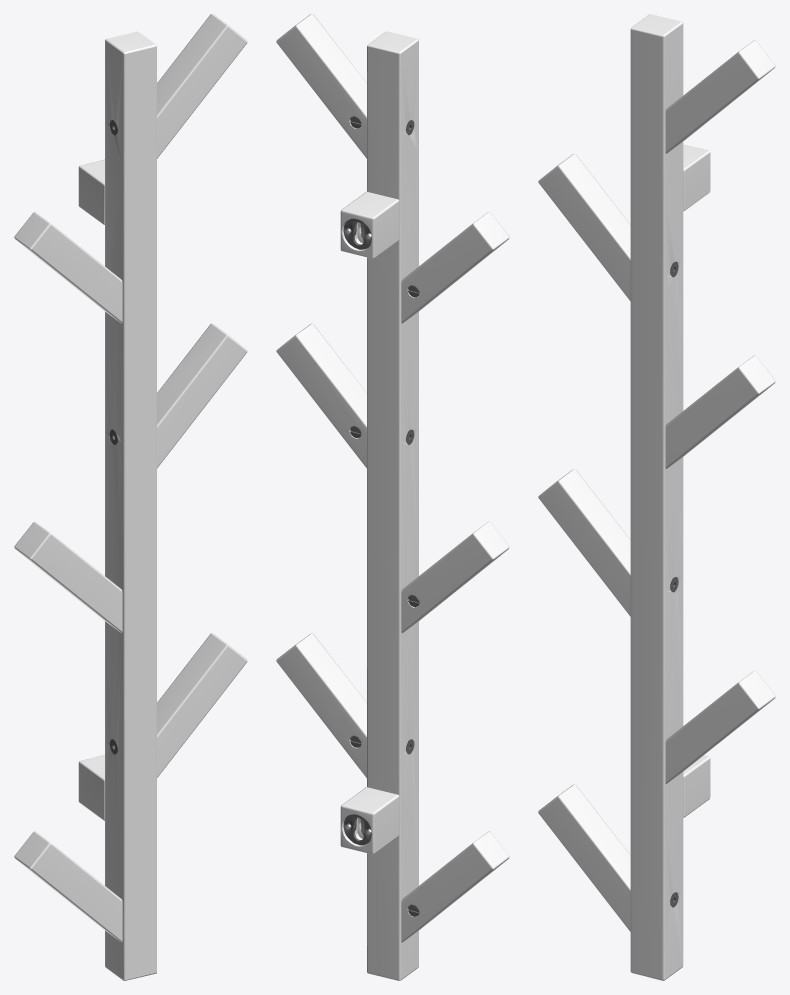
The model's file is tjusig_wieszak_60291708.glb.
3 renders of one model, left to right at view 1: azimuth 30°, elevation 25°; view 2: azimuth 150°, elevation 25°; view 3: azimuth 330°, elevation 25°, orthographic.
Parts seen in each view (by area): view 1: tjusig_wieszak_60291708; view 2: tjusig_wieszak_60291708; view 3: tjusig_wieszak_60291708.
Boxes of the visible parts, bbox=[...] form: tjusig_wieszak_60291708: bbox=[14, 14, 247, 980]; tjusig_wieszak_60291708: bbox=[276, 14, 509, 980]; tjusig_wieszak_60291708: bbox=[538, 14, 775, 980].
Size of the model in its own units: 0.1914 by 0.7806 by 0.0702.
Materials: 1 (1 with a texture image).
